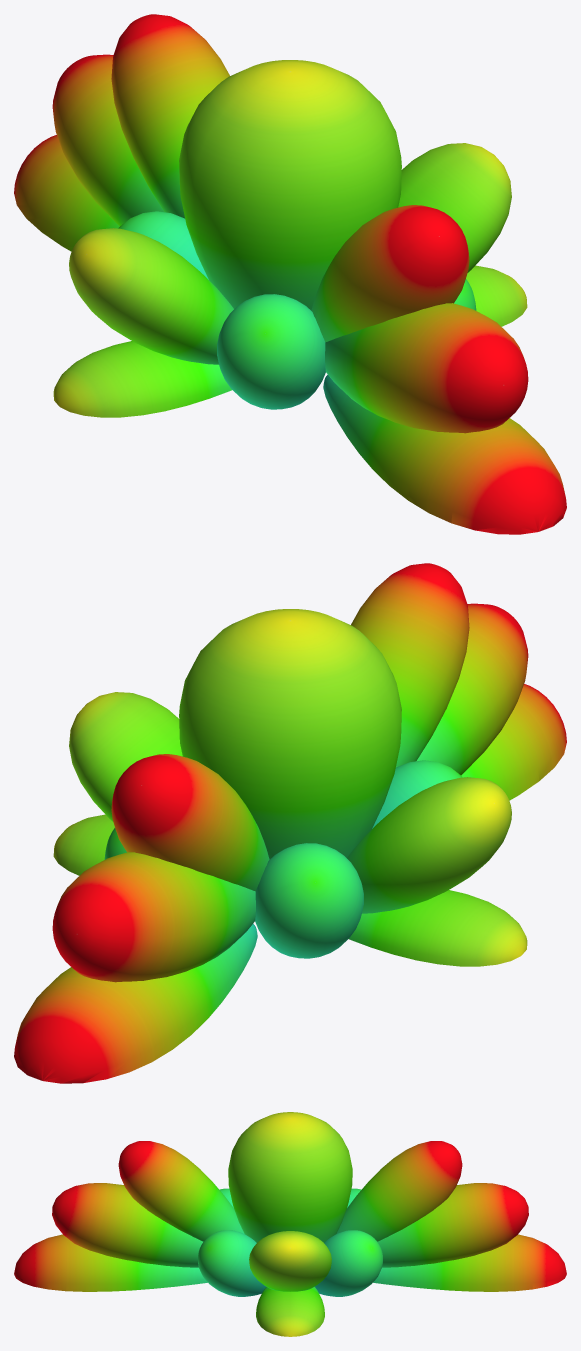
File: ceban.glb
3 views of the same model, one above another, from view 1: azimuth 30°, elevation 25°; view 2: azimuth 150°, elevation 25°; view 3: azimuth 270°, elevation 25° (orthographic). The views are drawn at different scales.
Visible parts, largest first — view 1: 球体.026; view 2: 球体.026; view 3: 球体.026.
Boxes of the visible parts, x1=… form: 球体.026: x1=14, y1=14, x2=566, y2=534; 球体.026: x1=14, y1=563, x2=566, y2=1083; 球体.026: x1=14, y1=1112, x2=566, y2=1336.
Size of the model in its own units: 2.29 by 1.32 by 4.26.
22 materials, 22 textured.
